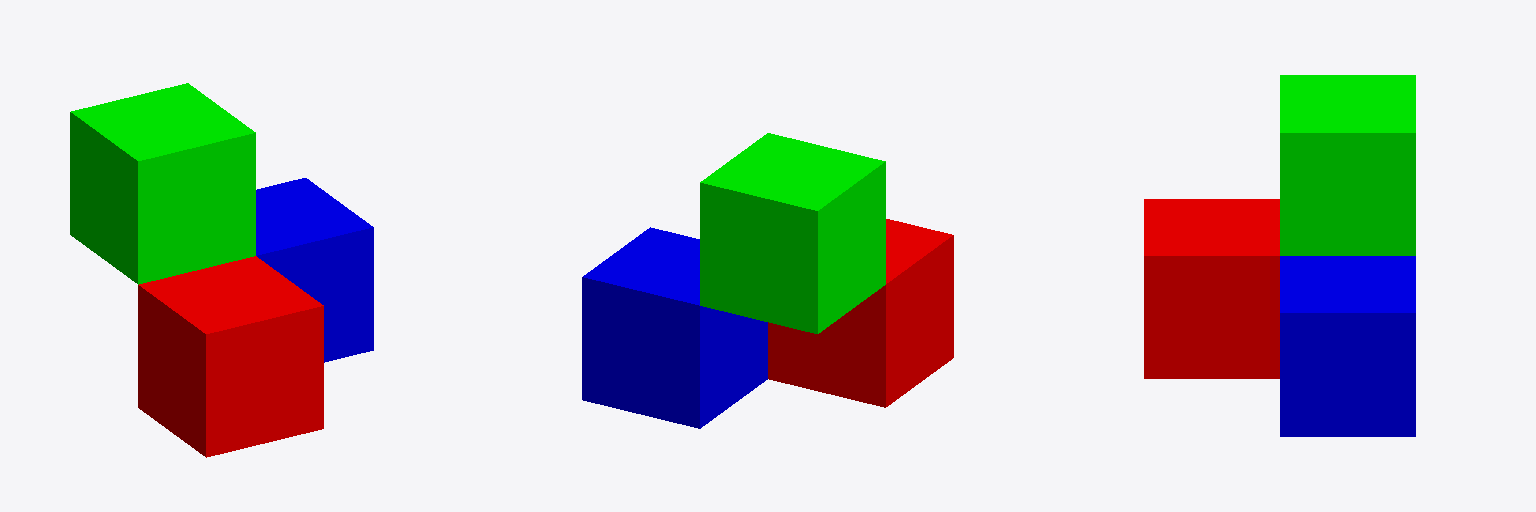
The model's file is iter_0.obj.
3 renders of one model, left to right at view 1: azimuth 30°, elevation 25°; view 2: azimuth 150°, elevation 25°; view 3: azimuth 270°, elevation 25°, orthographic.
Visible parts, largest first — view 1: iter_0; view 2: iter_0; view 3: iter_0.
Part boxes in pixels (bbox=[...]): iter_0: bbox=[70, 83, 373, 457]; iter_0: bbox=[582, 133, 953, 428]; iter_0: bbox=[1144, 75, 1415, 436].
Size of the model in its own units: 0.2 by 0.2 by 0.2.